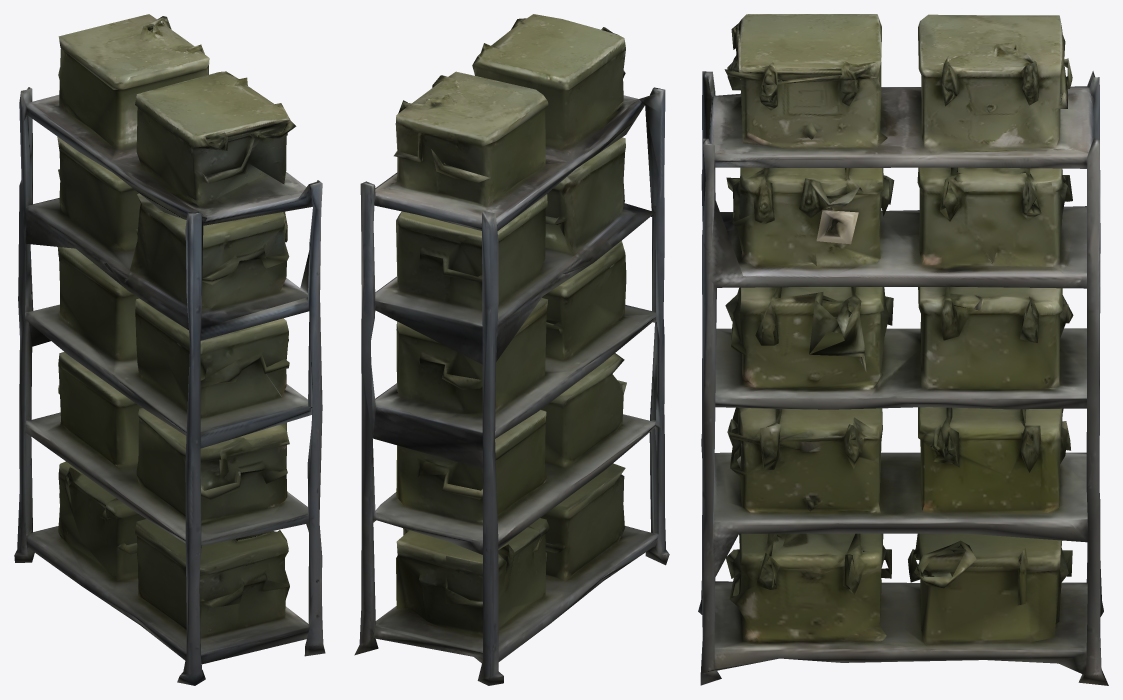
File: ul_ammo_shelf.glb
3 views of the same model, side by side, from view 1: azimuth 30°, elevation 25°; view 2: azimuth 150°, elevation 25°; view 3: azimuth 270°, elevation 25° (orthographic). The views are drawn at different scales.
Parts seen in each view (by area): view 1: tripo_node_f763a91e-48b8-46b5-9ecb-0972f06fe2c7; view 2: tripo_node_f763a91e-48b8-46b5-9ecb-0972f06fe2c7; view 3: tripo_node_f763a91e-48b8-46b5-9ecb-0972f06fe2c7.
Boxes of the visible parts, bbox=[...] form: tripo_node_f763a91e-48b8-46b5-9ecb-0972f06fe2c7: bbox=[14, 14, 325, 685]; tripo_node_f763a91e-48b8-46b5-9ecb-0972f06fe2c7: bbox=[354, 14, 669, 685]; tripo_node_f763a91e-48b8-46b5-9ecb-0972f06fe2c7: bbox=[698, 14, 1108, 685].
Bounding box in the file's own units: 0.2814 × 1 × 0.6025.
1 material, 1 textured.
